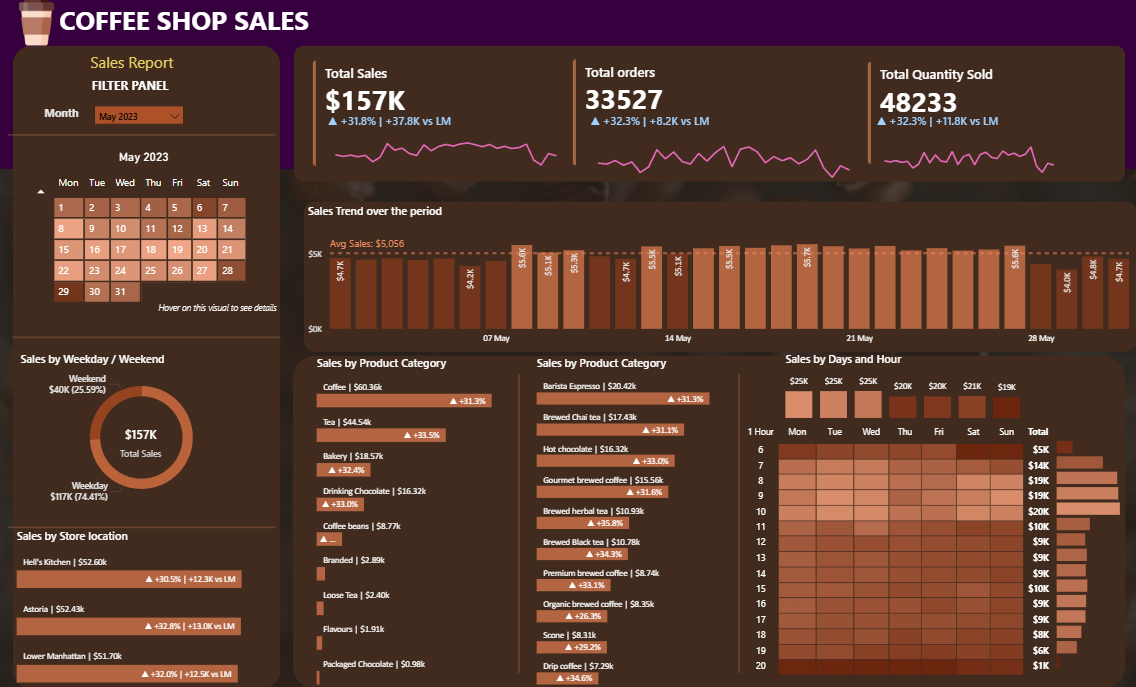

This screenshot's page, from the dashboard's own definition file:
{"tool":"powerbi","page":{"name":"Page 1","canvas":[1400,850],"ordinal":0},"visuals":[{"type":"shape","box":[0,0,1400,210.8],"z":0},{"type":"shape","box":[16.9,58.5,329.2,792.3],"z":1000},{"type":"shape","box":[363.1,58.5,1023.1,167.7],"z":2000},{"type":"textbox","box":[69.2,0,326.2,61.5],"z":3000},{"type":"cardVisual","fields":{"Data":["Transactions.Total orders"]},"box":[689.2,58.5,372.3,165.8],"z":4000,"group":"g2"},{"type":"cardVisual","fields":{"Data":["Transactions.Total Sales"]},"box":[369.2,60,330.8,164.6],"z":4000,"group":"g1"},{"type":"cardVisual","fields":{"Data":["Transactions.Total Quantity Sold"]},"box":[1052.3,61.5,347.7,160.1],"z":4000,"group":"g3"},{"type":"slicer","fields":{"Values":["Date Table.Month Year"]},"box":[112.3,127.7,120,33.8],"z":4000},{"type":"group","id":"g1","title":"Group 1","box":[369.2,60,330.8,167.7],"z":5000},{"type":"group","id":"g2","title":"Group 1","box":[689.2,58.5,372.3,169.2],"z":6000},{"type":"lineChart","fields":{"Category":["Date Table.Date.Variation.Date Hierarchy.Year","Date Table.Date.Variation.Date Hierarchy.Quarter","Date Table.Date.Variation.Date Hierarchy.Month","Date Table.Date.Variation.Date Hierarchy.Day"],"Y":["Transactions.Total Quantity Sold"]},"box":[1076.1,141.2,237.5,83.2],"z":6000,"group":"g3"},{"type":"lineChart","fields":{"Category":["Date Table.Date.Variation.Date Hierarchy.Year","Date Table.Date.Variation.Date Hierarchy.Quarter","Date Table.Date.Variation.Date Hierarchy.Month","Date Table.Date.Variation.Date Hierarchy.Day"],"Y":["Transactions.Total orders"]},"box":[723,141.3,338.1,86.1],"z":6000,"group":"g2"},{"type":"lineChart","fields":{"Category":["Date Table.Date.Variation.Date Hierarchy.Year","Date Table.Date.Variation.Date Hierarchy.Quarter","Date Table.Date.Variation.Date Hierarchy.Month","Date Table.Date.Variation.Date Hierarchy.Day"],"Y":["Transactions.Total Sales"]},"box":[399.3,142.2,300.4,85.5],"z":6000,"group":"g1"},{"type":"group","id":"g3","title":"Group 1","box":[1052.3,61.5,347.7,160],"z":7000},{"type":"pivotTable","fields":{"Rows":["Date Table.Week Number"],"Columns":["Date Table.Day Name"],"Values":["Min(Date Table.Day Number)"]},"box":[36.9,210.8,303.1,189.2],"z":8000},{"type":"card","fields":{"Values":["Min(Date Table.Month Year)"]},"box":[120,169.2,116.9,55.4],"z":9000},{"type":"card","fields":{"Values":["Transactions.Foot Note"]},"box":[175.4,369.2,187.7,30.8],"z":10000},{"type":"shape","box":[16.9,400,329.2,35.4],"z":11000},{"type":"shape","box":[10.8,150.8,329.2,35.4],"z":12000},{"type":"donutChart","title":"Sales by Weekday / Weekend","fields":{"Category":["Date Table.Weekday / Weekend"],"Y":["Transactions.Total Sales"]},"box":[21.5,435.4,307.7,193.8],"z":13000},{"type":"card","fields":{"Values":["Transactions.Total Sales"]},"box":[113.8,521.5,121.5,50.8],"z":14000},{"type":"shape","box":[10.8,633.8,329.2,35.4],"z":15000},{"type":"clusteredBarChart","title":"Sales by Store location","fields":{"Category":["Transactions.store_location"],"Y":["Transactions.PlaceHolder","Transactions.Total Sales"]},"box":[16.9,652.3,312.3,198.5],"z":16000},{"type":"shape","box":[361.5,440,1024.6,410.8],"z":17000},{"type":"shape","box":[375.4,250.8,1024.6,184.6],"z":18000},{"type":"columnChart","title":"Sales Trend over the period","fields":{"Category":["Transactions.transaction_date"],"Y":["Transactions.Total Sales"]},"box":[375.4,252.3,1024.6,183.1],"z":19000},{"type":"clusteredBarChart","title":"Sales by Product Category","fields":{"Y":["Transactions.PlaceHolder","Transactions.Total Sales"],"Category":["Transactions.product_category"]},"box":[386.2,440,253.8,410.8],"z":20000},{"type":"shape","box":[623.1,463.1,33.8,367.7],"z":21000},{"type":"clusteredBarChart","title":"Sales by Product Category","fields":{"Y":["Transactions.PlaceHolder","Transactions.Total Sales"],"Category":["Transactions.product_type"]},"box":[656.9,440,253.8,410.8],"z":22000},{"type":"shape","box":[893.8,463.1,33.8,367.7],"z":23000},{"type":"pivotTable","fields":{"Rows":["Transactions.1 Hour"],"Columns":["Date Table.Day Name"],"Values":["Transactions.Total Sales"]},"box":[910.8,521.5,403.1,324.6],"z":24000},{"type":"clusteredBarChart","title":"Total Sales by Hour","fields":{"Category":["Transactions.1 Hour"],"Y":["Transactions.Total Sales"]},"box":[1296.9,532.3,89.2,298.5],"z":25000},{"type":"columnChart","title":" Sales by Days and Hour","fields":{"Y":["Transactions.Total Sales"],"Category":["Date Table.Day Name"]},"box":[963.1,435.4,300,87.7],"z":26000},{"type":"textbox","box":[50.8,127.7,69.2,33.8],"z":27000},{"type":"textbox","box":[107.7,61.5,124.6,44.6],"z":28000},{"type":"textbox","box":[109.2,92.3,123.1,35.4],"z":29000},{"type":"image","box":[6.2,0,80,58.5],"z":30000}]}

Visuals, with their boxes in screenshot pixels (x1, y1, x2, y2), scaled from the page's 1400x850 canvas onto the 1136x687 screenshot:
shape: <bbox>0, 0, 1135, 170</bbox>
shape: <bbox>14, 47, 281, 686</bbox>
shape: <bbox>295, 47, 1125, 183</bbox>
textbox: <bbox>56, 0, 321, 50</bbox>
cardVisual - Transactions.Total orders: <bbox>559, 47, 861, 181</bbox>
cardVisual - Transactions.Total Sales: <bbox>300, 48, 568, 182</bbox>
cardVisual - Transactions.Total Quantity Sold: <bbox>854, 50, 1135, 179</bbox>
slicer - Date Table.Month Year: <bbox>91, 103, 188, 131</bbox>
"Group 1" group: <bbox>300, 48, 568, 184</bbox>
"Group 1" group: <bbox>559, 47, 861, 184</bbox>
lineChart - Date Table.Date.Variation.Date Hierarchy.Year x Date Table.Date.Variation.Date Hierarchy.Quarter: <bbox>873, 114, 1066, 181</bbox>
lineChart - Date Table.Date.Variation.Date Hierarchy.Year x Date Table.Date.Variation.Date Hierarchy.Quarter: <bbox>587, 114, 861, 184</bbox>
lineChart - Date Table.Date.Variation.Date Hierarchy.Year x Date Table.Date.Variation.Date Hierarchy.Quarter: <bbox>324, 115, 568, 184</bbox>
"Group 1" group: <bbox>854, 50, 1135, 179</bbox>
pivotTable - Date Table.Week Number x Date Table.Day Name: <bbox>30, 170, 276, 323</bbox>
card - Min(Date Table.Month Year): <bbox>97, 137, 192, 182</bbox>
card - Transactions.Foot Note: <bbox>142, 298, 295, 323</bbox>
shape: <bbox>14, 323, 281, 352</bbox>
shape: <bbox>9, 122, 276, 150</bbox>
"Sales by Weekday / Weekend" donutChart: <bbox>17, 352, 267, 509</bbox>
card - Transactions.Total Sales: <bbox>92, 421, 191, 463</bbox>
shape: <bbox>9, 512, 276, 541</bbox>
"Sales by Store location" clusteredBarChart: <bbox>14, 527, 267, 686</bbox>
shape: <bbox>293, 356, 1125, 686</bbox>
shape: <bbox>305, 203, 1135, 352</bbox>
"Sales Trend over the period" columnChart: <bbox>305, 204, 1135, 352</bbox>
"Sales by Product Category" clusteredBarChart: <bbox>313, 356, 519, 686</bbox>
shape: <bbox>506, 374, 533, 671</bbox>
"Sales by Product Category" clusteredBarChart: <bbox>533, 356, 739, 686</bbox>
shape: <bbox>725, 374, 753, 671</bbox>
pivotTable - Transactions.1 Hour x Date Table.Day Name: <bbox>739, 421, 1066, 684</bbox>
"Total Sales by Hour" clusteredBarChart: <bbox>1052, 430, 1125, 671</bbox>
" Sales by Days and Hour" columnChart: <bbox>781, 352, 1025, 423</bbox>
textbox: <bbox>41, 103, 97, 131</bbox>
textbox: <bbox>87, 50, 188, 86</bbox>
textbox: <bbox>89, 75, 188, 103</bbox>
image: <bbox>5, 0, 70, 47</bbox>
